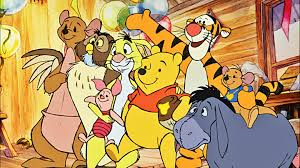Winnie: (130, 49, 182, 113)
